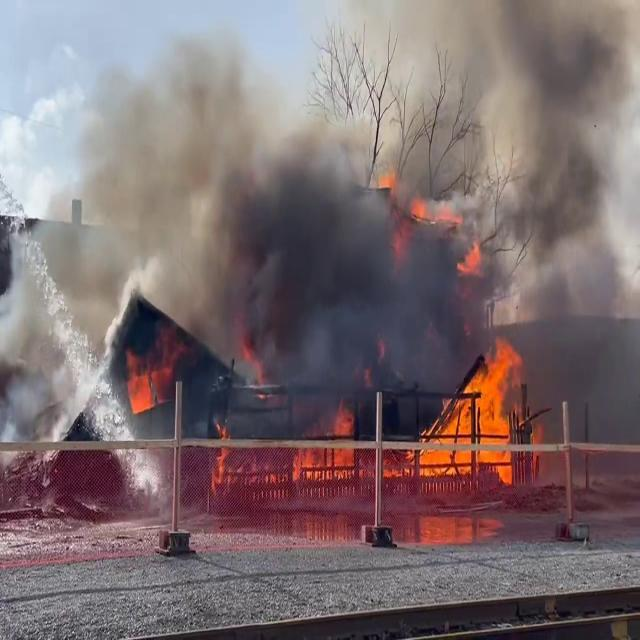Fire: (411, 334, 532, 476), (294, 400, 370, 481), (124, 350, 160, 418)
Smoke: (64, 8, 640, 390), (0, 234, 101, 448)
